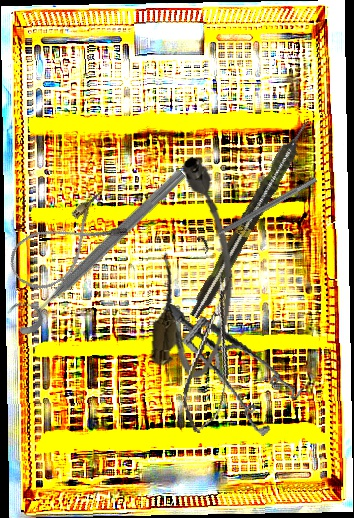Cannula: (148, 152, 246, 381), (1, 189, 131, 300)
Fixation Ring: (2, 155, 191, 339), (195, 170, 322, 255)
Handpiece: (185, 115, 317, 322)
Micro Scissor: (175, 269, 251, 437)
Speculum: (161, 277, 313, 453)
